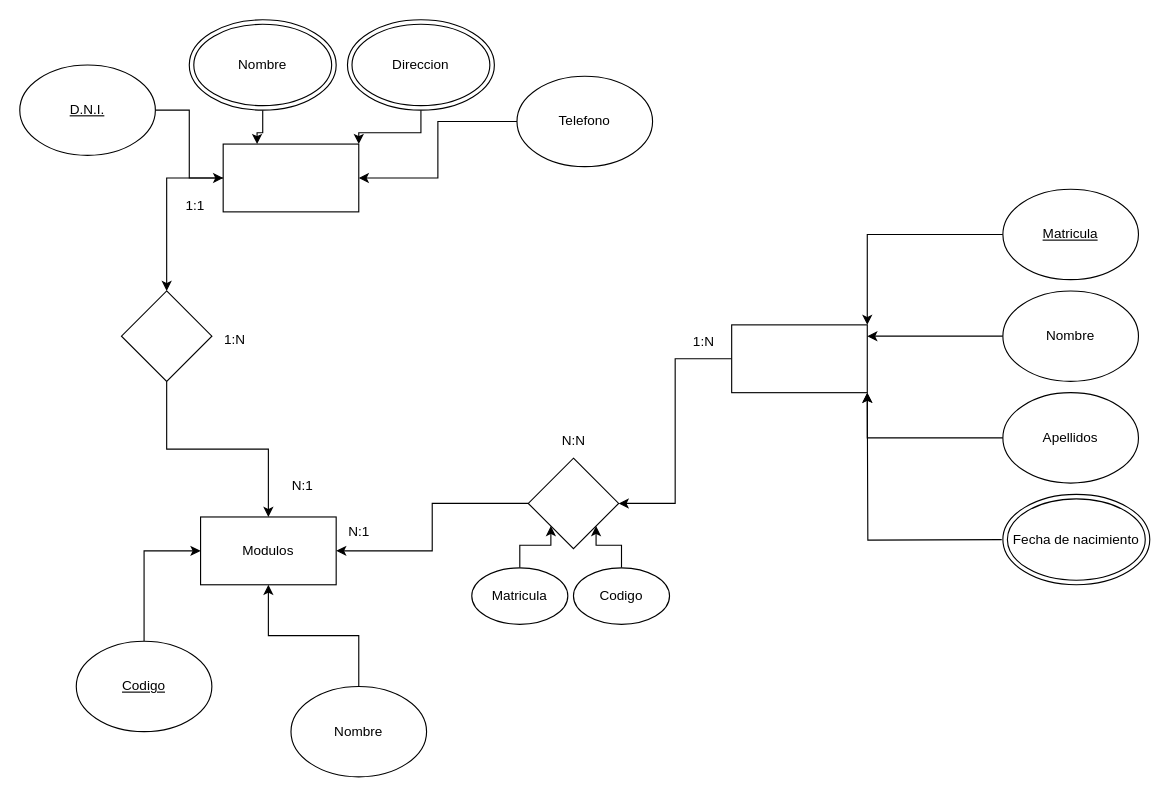
Image size: 1170x797. Some labels were removed from this diagram. The shapes that lost their labels are listed below. From the top down, each one's centre as x and y in pixels, then its label:
At point (290, 177): "Profesores".
At point (166, 335): "Imparten".
At point (799, 358): "Alumnos".
At point (573, 503): "Matriculan".
